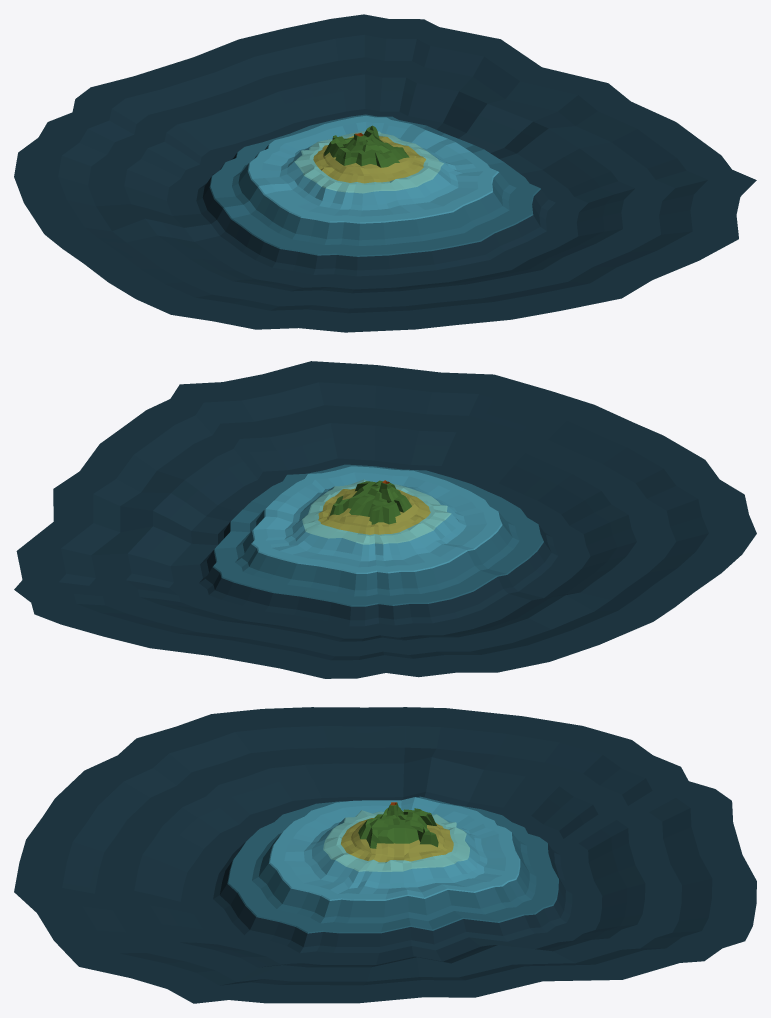
File: Island.fbx
3 renders of one model, top to bottom at view 1: azimuth 30°, elevation 25°; view 2: azimuth 150°, elevation 25°; view 3: azimuth 270°, elevation 25°, orthographic. The views are drawn at different scales.
Parts seen in each view (by area): view 1: Cube.006; view 2: Cube.006; view 3: Cube.006.
Part boxes in pixels (left/top/right/bottom): Cube.006: left=14, top=14, right=756, bottom=332; Cube.006: left=14, top=361, right=756, bottom=678; Cube.006: left=14, top=707, right=756, bottom=1003.
Bounding box in the file's own units: 2050 × 239 × 2169.
